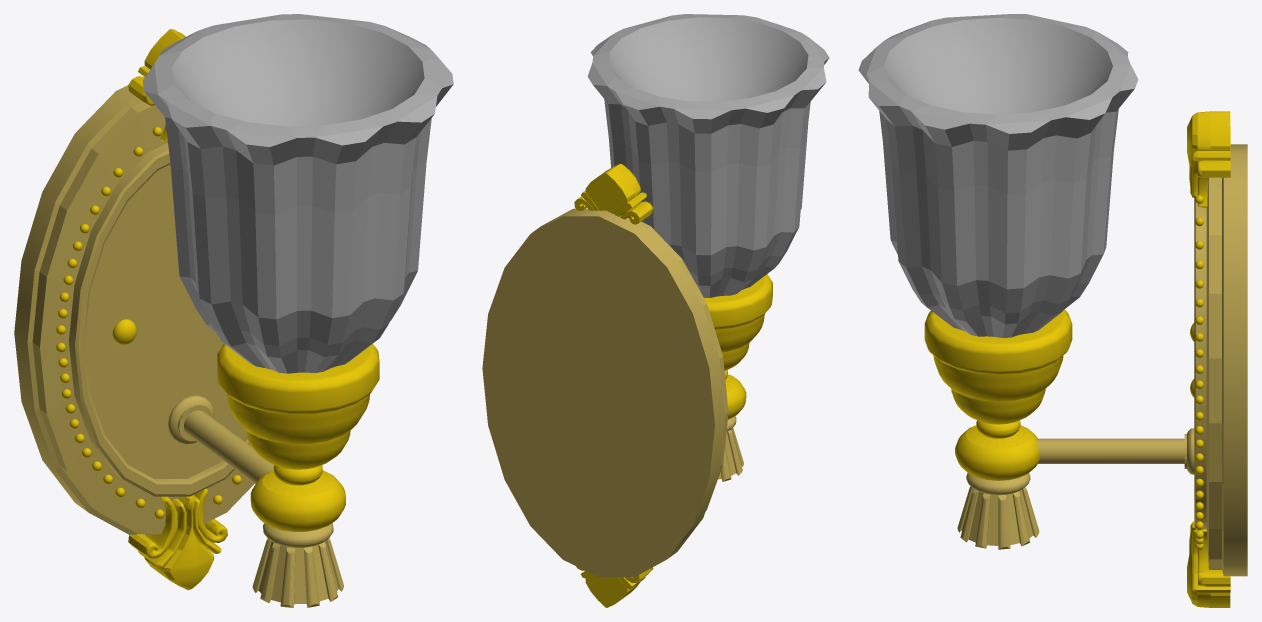
File: wall lamp.fbx
3 views of the same model, side by side, from view 1: azimuth 30°, elevation 25°; view 2: azimuth 150°, elevation 25°; view 3: azimuth 270°, elevation 25° (orthographic). The views are drawn at different scales.
Visible parts, largest first — view 1: polySurface19, pCylinder1, polySurface20, polySurface16, polySurface13, polySurface14, polySurface18, pCylinder6, polySurface17, pasted__pCylinder6, polySurface11, pSphere30 (+2 smaller); view 2: pCylinder1, polySurface19, polySurface11, polySurface20, polySurface13, polySurface18, polySurface16, polySurface14; view 3: polySurface19, pCylinder1, polySurface20, polySurface16, pCylinder6, polySurface14, polySurface11, polySurface18, polySurface13, polySurface17, pSphere28, pSphere26 (+1 smaller).
Part boxes in pixels (x1=…): polySurface19: x1=143, y1=14, x2=453, y2=373; pCylinder1: x1=14, y1=85, x2=254, y2=534; polySurface20: x1=217, y1=344, x2=379, y2=414; polySurface16: x1=252, y1=523, x2=343, y2=607; polySurface13: x1=128, y1=488, x2=227, y2=590; polySurface14: x1=250, y1=470, x2=345, y2=531; polySurface18: x1=226, y1=393, x2=369, y2=444; pCylinder6: x1=184, y1=410, x2=274, y2=483; polySurface17: x1=246, y1=430, x2=350, y2=469; pasted__pCylinder6: x1=168, y1=395, x2=214, y2=444; polySurface11: x1=128, y1=29, x2=185, y2=142; pSphere30: x1=56, y1=127, x2=162, y2=334; pCylinder1: x1=482, y1=208, x2=728, y2=577; polySurface19: x1=587, y1=14, x2=829, y2=297; polySurface11: x1=574, y1=163, x2=653, y2=224; polySurface20: x1=704, y1=274, x2=772, y2=329; polySurface13: x1=576, y1=566, x2=653, y2=607; polySurface18: x1=715, y1=313, x2=765, y2=352; polySurface16: x1=718, y1=416, x2=743, y2=481; polySurface14: x1=725, y1=374, x2=746, y2=419; polySurface19: x1=858, y1=14, x2=1138, y2=337; pCylinder1: x1=1194, y1=144, x2=1247, y2=576; polySurface20: x1=924, y1=309, x2=1072, y2=374; polySurface16: x1=957, y1=473, x2=1039, y2=549; pCylinder6: x1=1036, y1=438, x2=1184, y2=463; polySurface14: x1=955, y1=425, x2=1039, y2=480; polySurface11: x1=1187, y1=111, x2=1230, y2=208; polySurface18: x1=933, y1=355, x2=1063, y2=401; polySurface13: x1=1187, y1=521, x2=1230, y2=607; polySurface17: x1=951, y1=389, x2=1045, y2=424; pSphere28: x1=1195, y1=195, x2=1203, y2=404; pSphere26: x1=1195, y1=426, x2=1203, y2=549.
Bounding box in the file's own units: 2.32 × 4.51 × 2.94.
